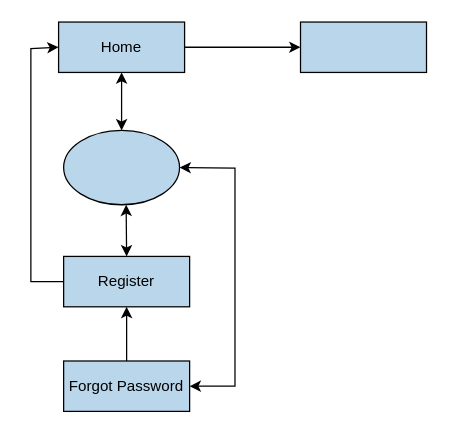
Some shapes in this 449 by 433 pixel diagram are drawn without their labels. Each missing label, with the centre of its shape:
Login: (121,167)
Theme: (363,46)
